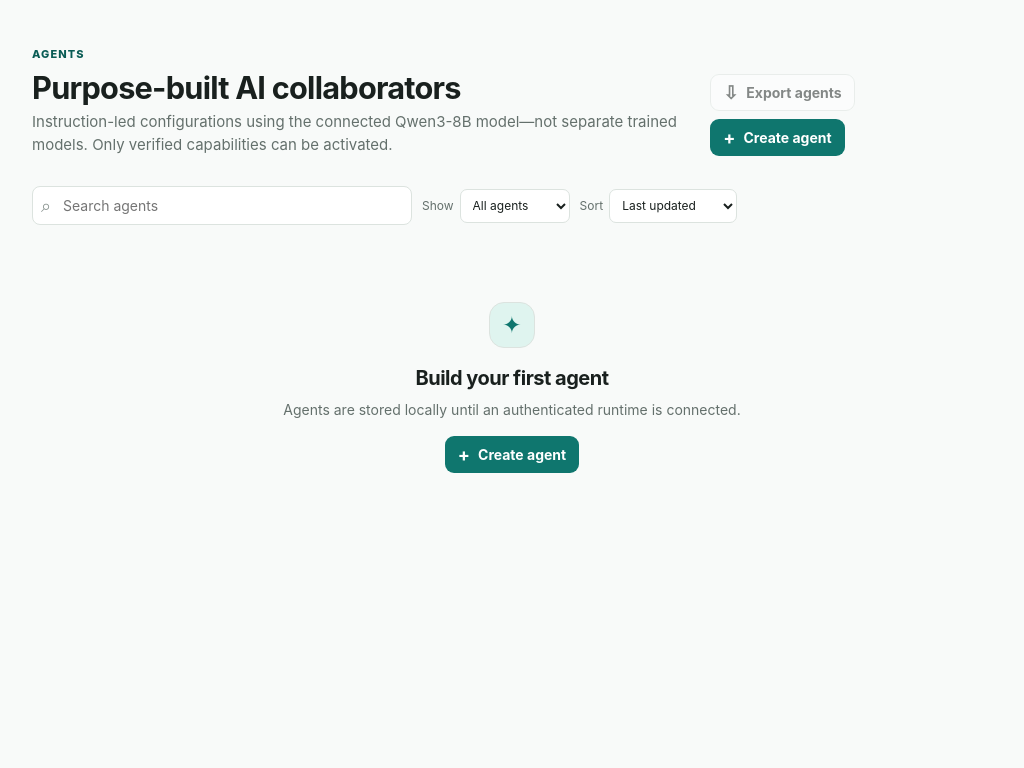
Scenario: agents workspace › validates and locally saves an agent
The width and height of the screenshot is (1024, 768).
Click the button "+ Create agent" below "Purpose-built AI collaborators" at (777,138), box [710,119,844,156]
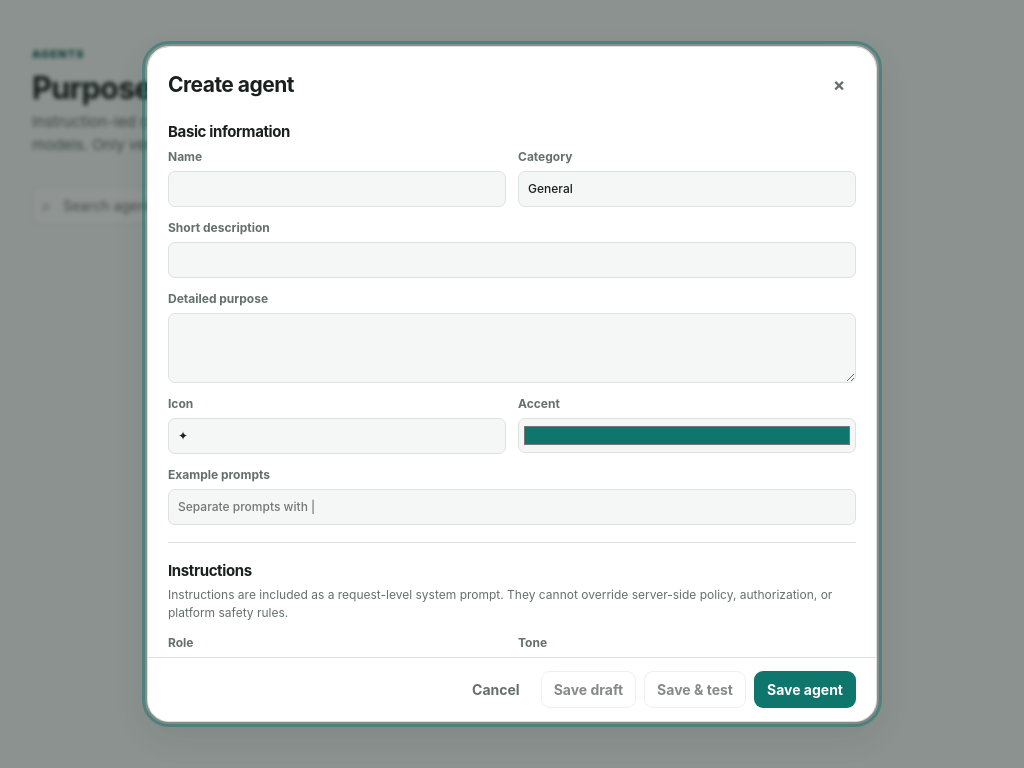
Type "Research guide" into the field labelled "Name" at (337,189), box [168,171,506,207]
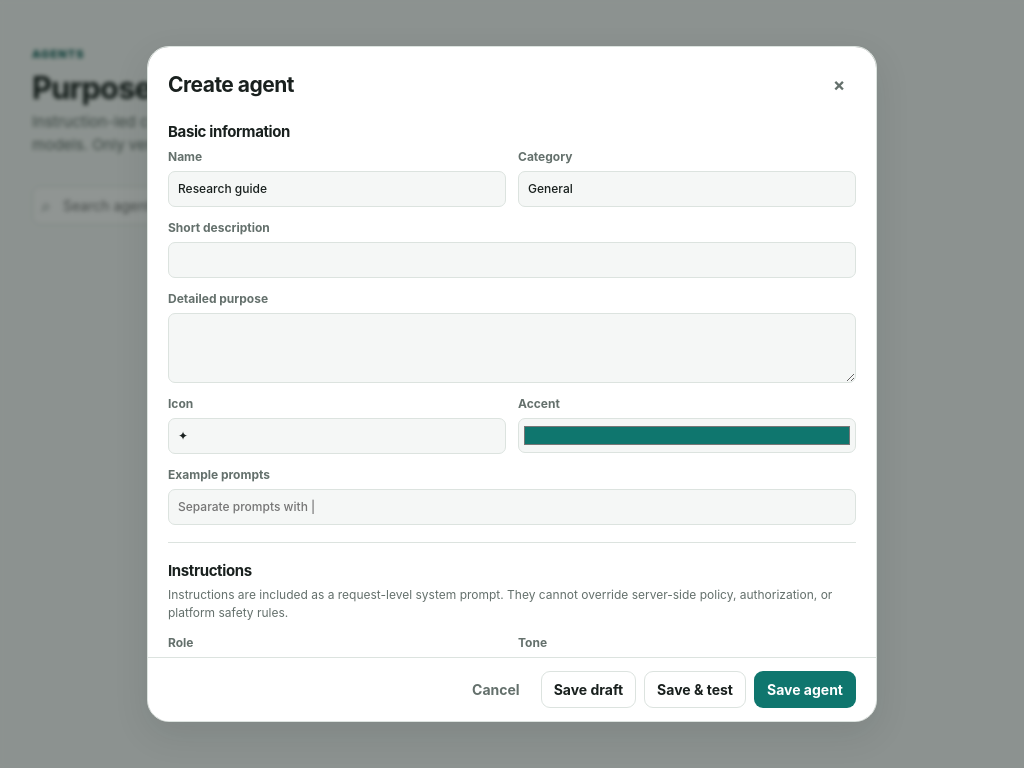
Type "A focused research assistant" into the field labelled "Short description" at (512,260), box [168,242,856,278]
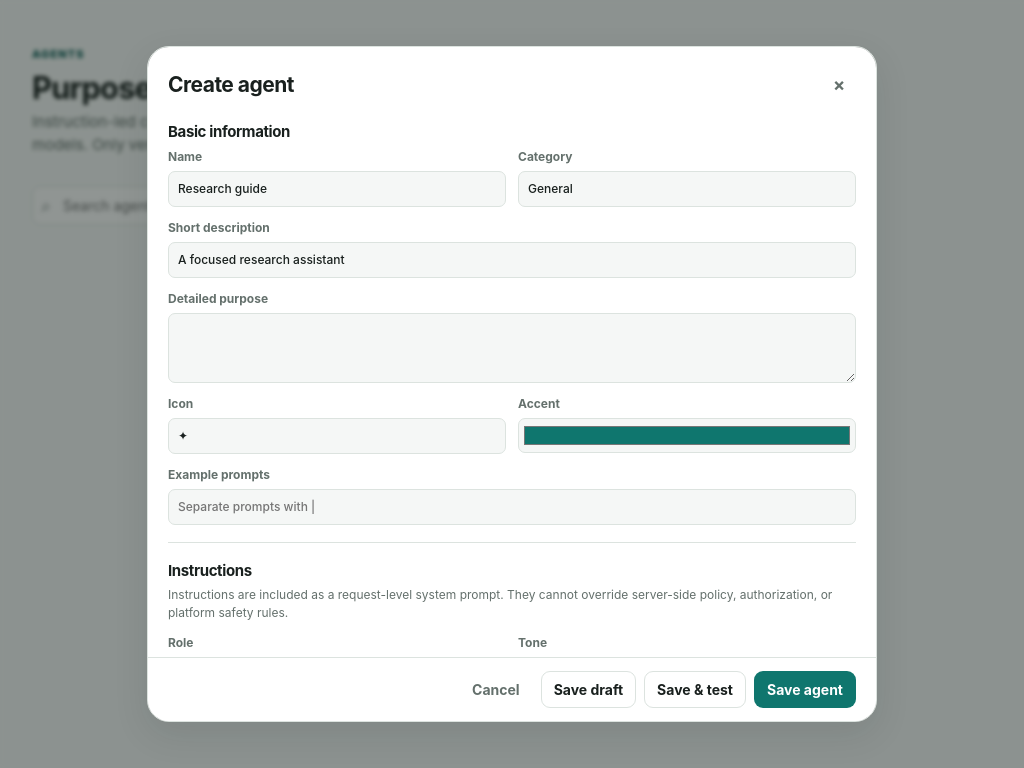
Type "Help plan and assess research questions." into the text box labelled "Detailed purpose" at (512,348), box [168,313,856,383]
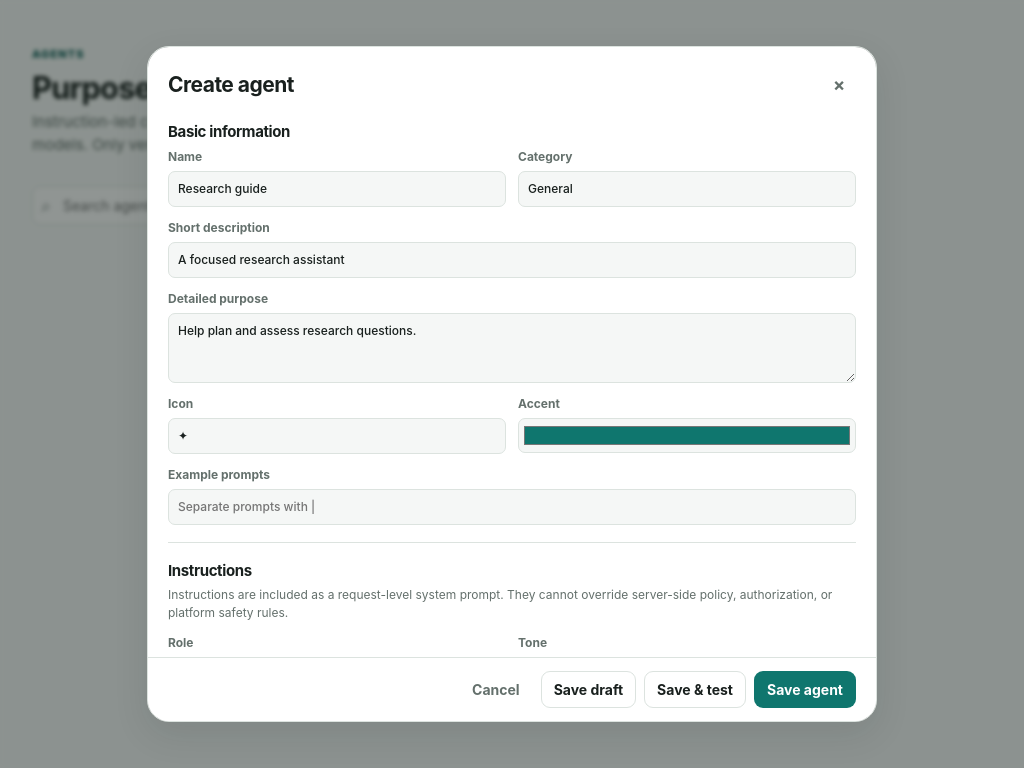
Click the button "Save agent" at (805,689), box [754,671,856,708]
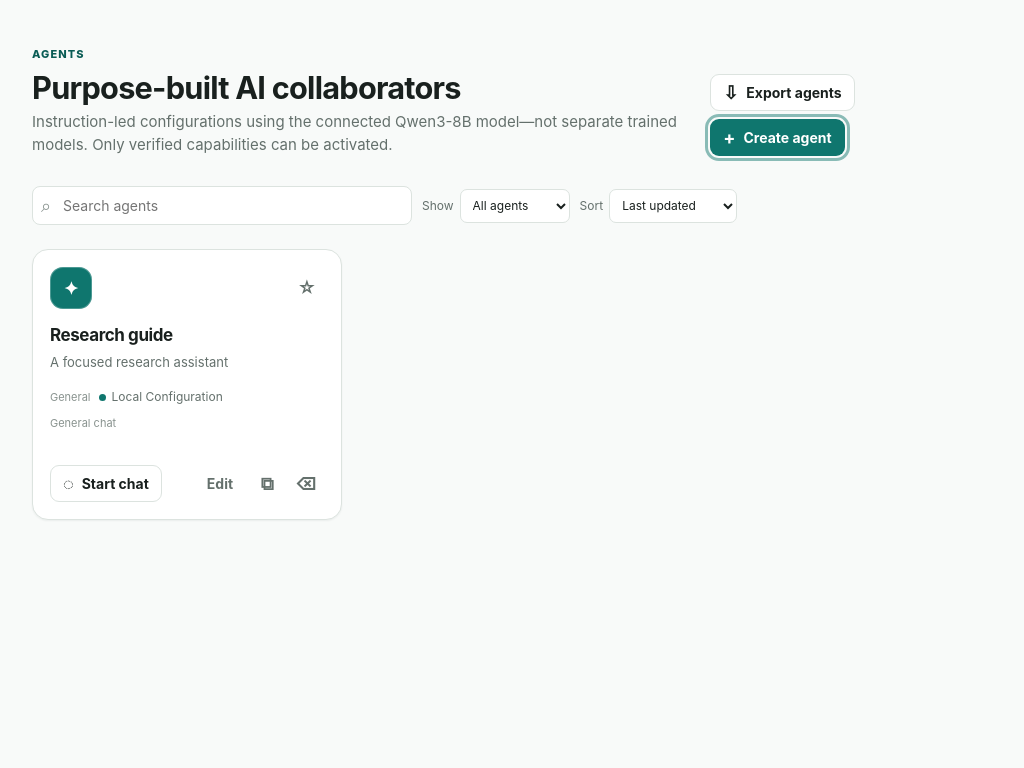
Expected: the heading "Research guide" is shown, [50,325,173,345]
Expected: the text "Local configuration" is shown, [98,388,223,406]
